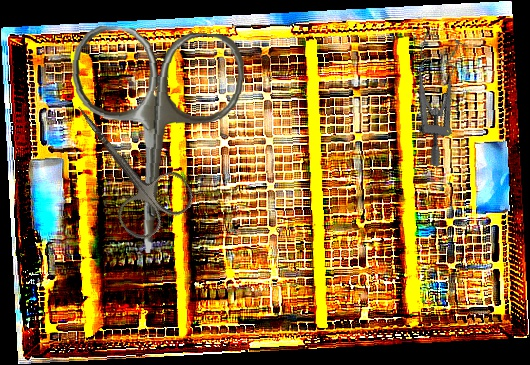Iris Scissors: (59, 24, 248, 259), (49, 82, 200, 247)
Speculum: (387, 29, 480, 169)
